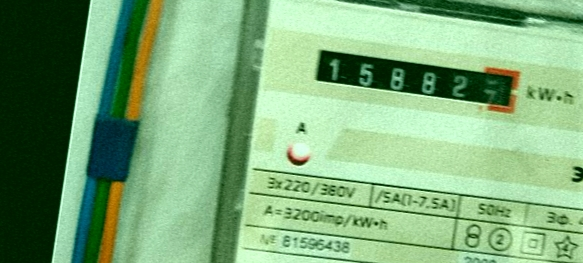1: (325, 56, 343, 83)
2: (450, 71, 470, 99)
5: (356, 60, 375, 87)
7: (481, 86, 497, 104)
8: (418, 68, 438, 95), (387, 65, 407, 91)
screen: (299, 33, 531, 125)
